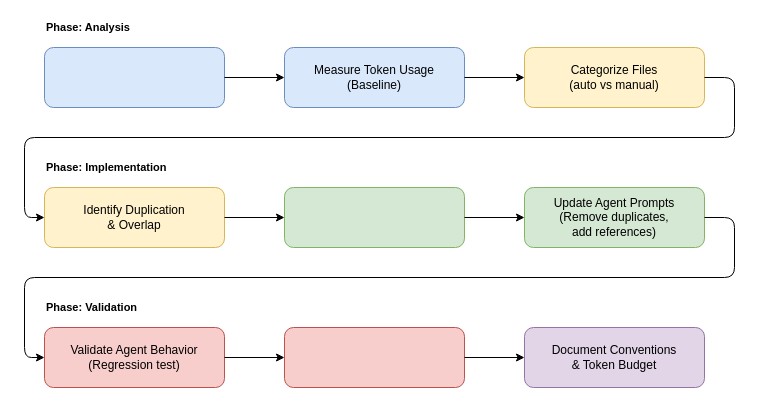
Some shapes in this 760 by 405 pixel diagram are drawn without their labels. Each missing label, with the centre of its shape:
"Audit Steering Files" goes at point (134, 77).
"Measure Token Savings (Compare baseline)" goes at point (374, 357).
"Restructure Files (Add frontmatter, merge, split)" goes at point (374, 217).
